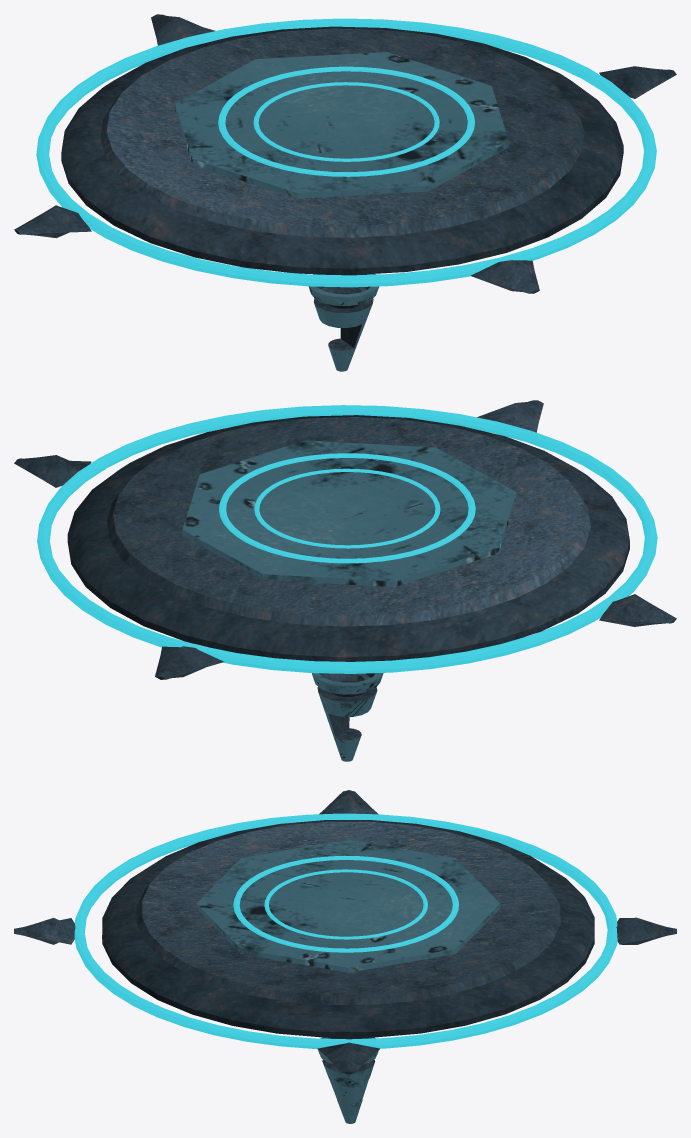
File: floating_platform3.glb
3 views of the same model, one above another, from view 1: azimuth 30°, elevation 25°; view 2: azimuth 150°, elevation 25°; view 3: azimuth 270°, elevation 25° (orthographic). The views are drawn at different scales.
Visible parts, largest first — view 1: Object002_Material #6_0.003; view 2: Object002_Material #6_0.003; view 3: Object002_Material #6_0.003.
Boxes of the visible parts, x1,y1,x2,y2 form: Object002_Material #6_0.003: (14,14,676,371); Object002_Material #6_0.003: (14,400,676,761); Object002_Material #6_0.003: (14,790,676,1123).
Size of the model in its own units: 7.23 by 2.64 by 7.2.
Materials: 4 (2 with a texture image).
